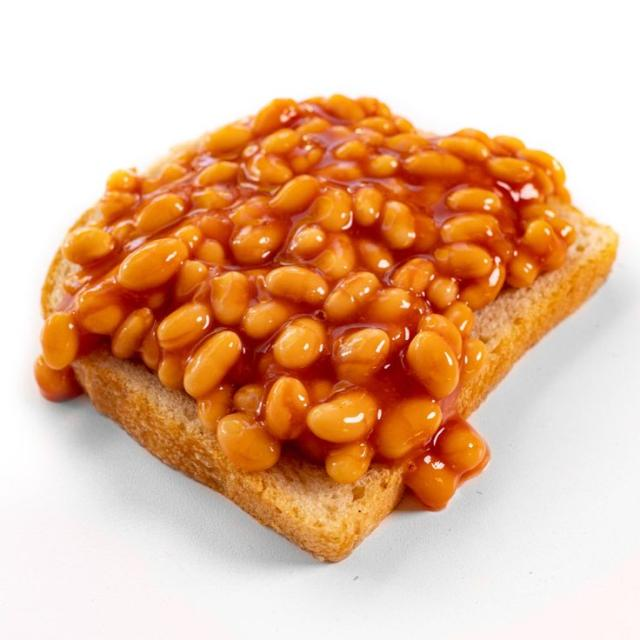sliced_bread: (77, 350, 402, 561), (459, 205, 617, 416)
